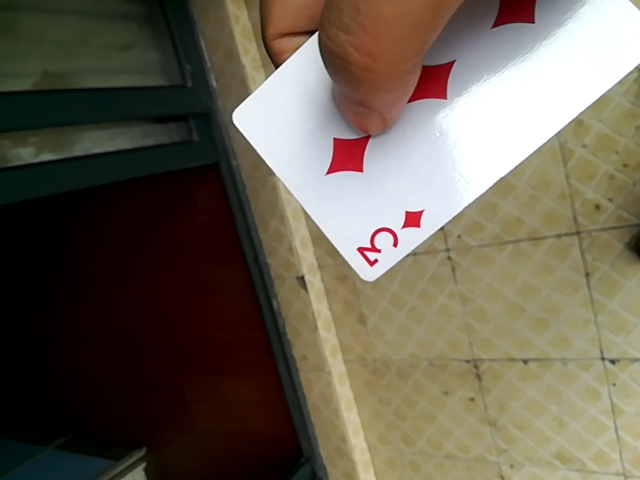fk 3: (221, 2, 634, 286)
